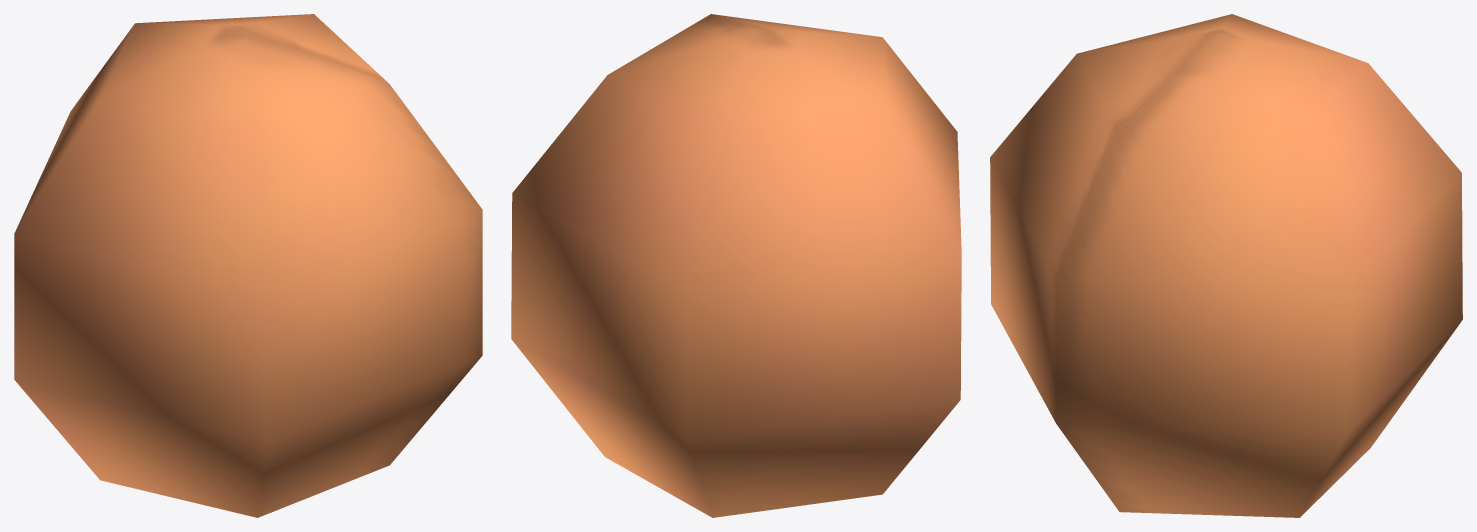
The model's file is Item_Apricot.fbx.
3 renders of one model, left to right at view 1: azimuth 30°, elevation 25°; view 2: azimuth 150°, elevation 25°; view 3: azimuth 270°, elevation 25°, orthographic.
Visible parts, largest first — view 1: Item_Apricot; view 2: Item_Apricot; view 3: Item_Apricot.
Boxes of the visible parts, box(x1,y1,x2,y2) form: Item_Apricot: box(14, 14, 482, 517); Item_Apricot: box(511, 14, 961, 517); Item_Apricot: box(990, 14, 1462, 517).
Bounding box in the file's own units: 13.8 × 15.63 × 14.11.
